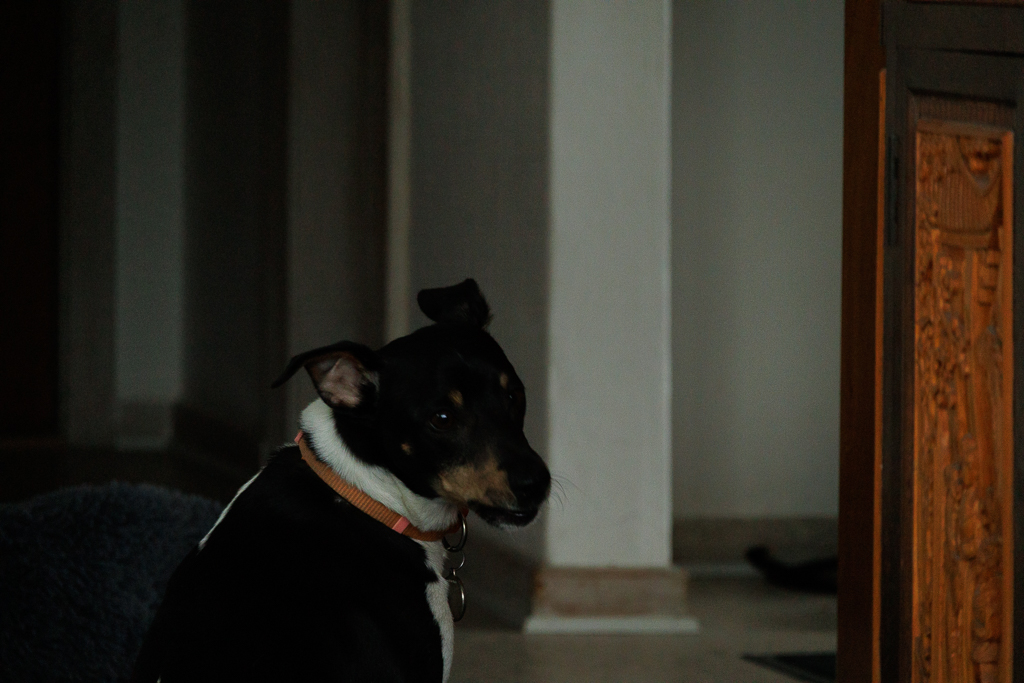Dog: (124, 263, 594, 683)
